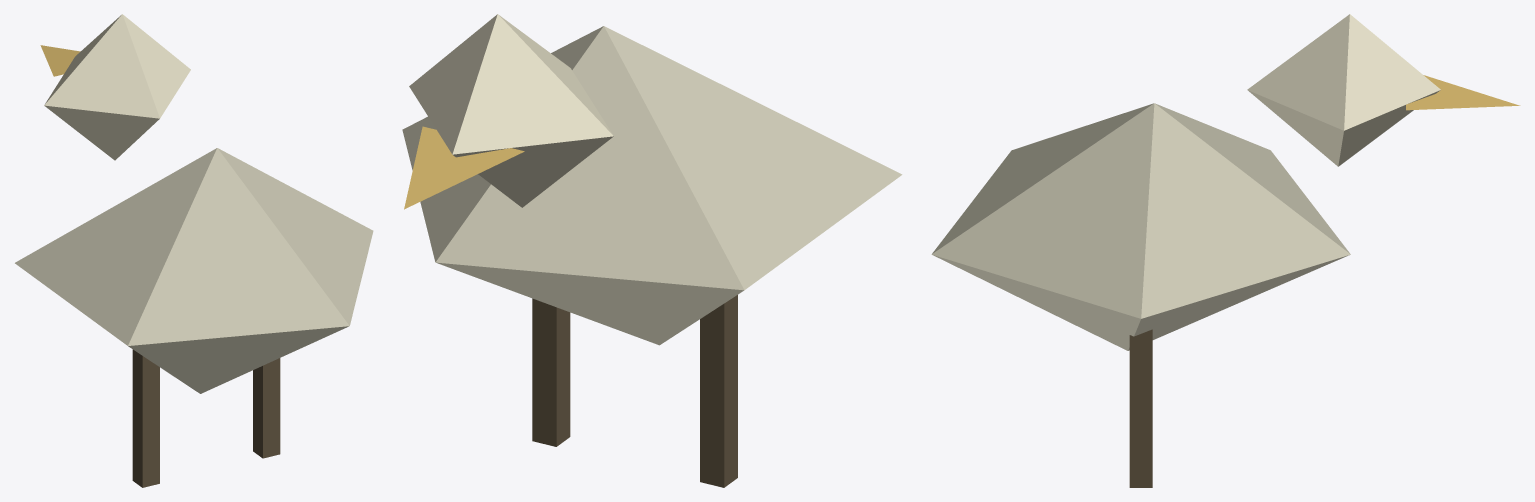
The model's file is ua_chicken.obj.
The picture shows the model from 3 angles, left to right: view 1: azimuth 30°, elevation 25°; view 2: azimuth 150°, elevation 25°; view 3: azimuth 270°, elevation 25°; orthographic projection. The views are drawn at different scales.
Visible parts, largest first — view 1: ua_chicken; view 2: ua_chicken; view 3: ua_chicken.
Boxes of the visible parts, x1,y1,x2,y2 form: ua_chicken: [15, 14, 373, 487]; ua_chicken: [402, 14, 902, 487]; ua_chicken: [931, 14, 1520, 487].
Bounding box in the file's own units: 0.4523 × 0.55 × 0.6678.
